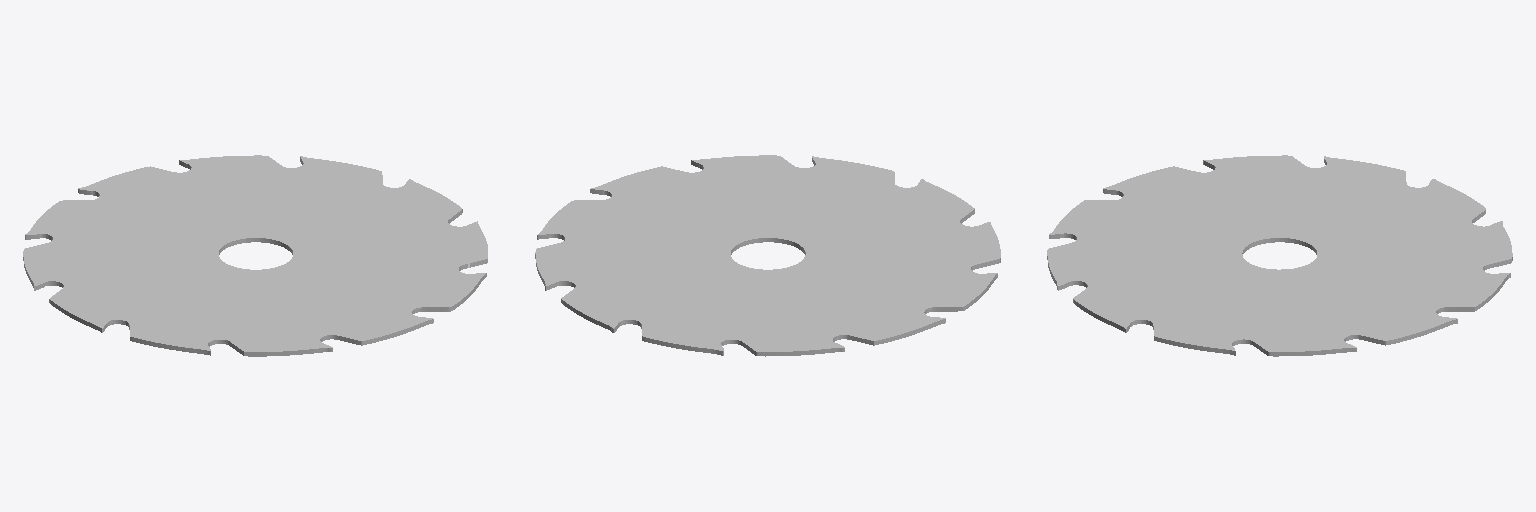
Rendered from circular_blade_scaled.obj.
The picture shows the model from 3 angles: view 1: azimuth 30°, elevation 25°; view 2: azimuth 150°, elevation 25°; view 3: azimuth 270°, elevation 25°; orthographic projection.
Visible parts, largest first — view 1: path319; view 2: path319; view 3: path319.
Part boxes in pixels (x1,y1,x2,y2): path319: (23, 155, 487, 356); path319: (535, 155, 1000, 356); path319: (1047, 155, 1512, 356).
Size of the model in its own units: 190 by 2 by 190.